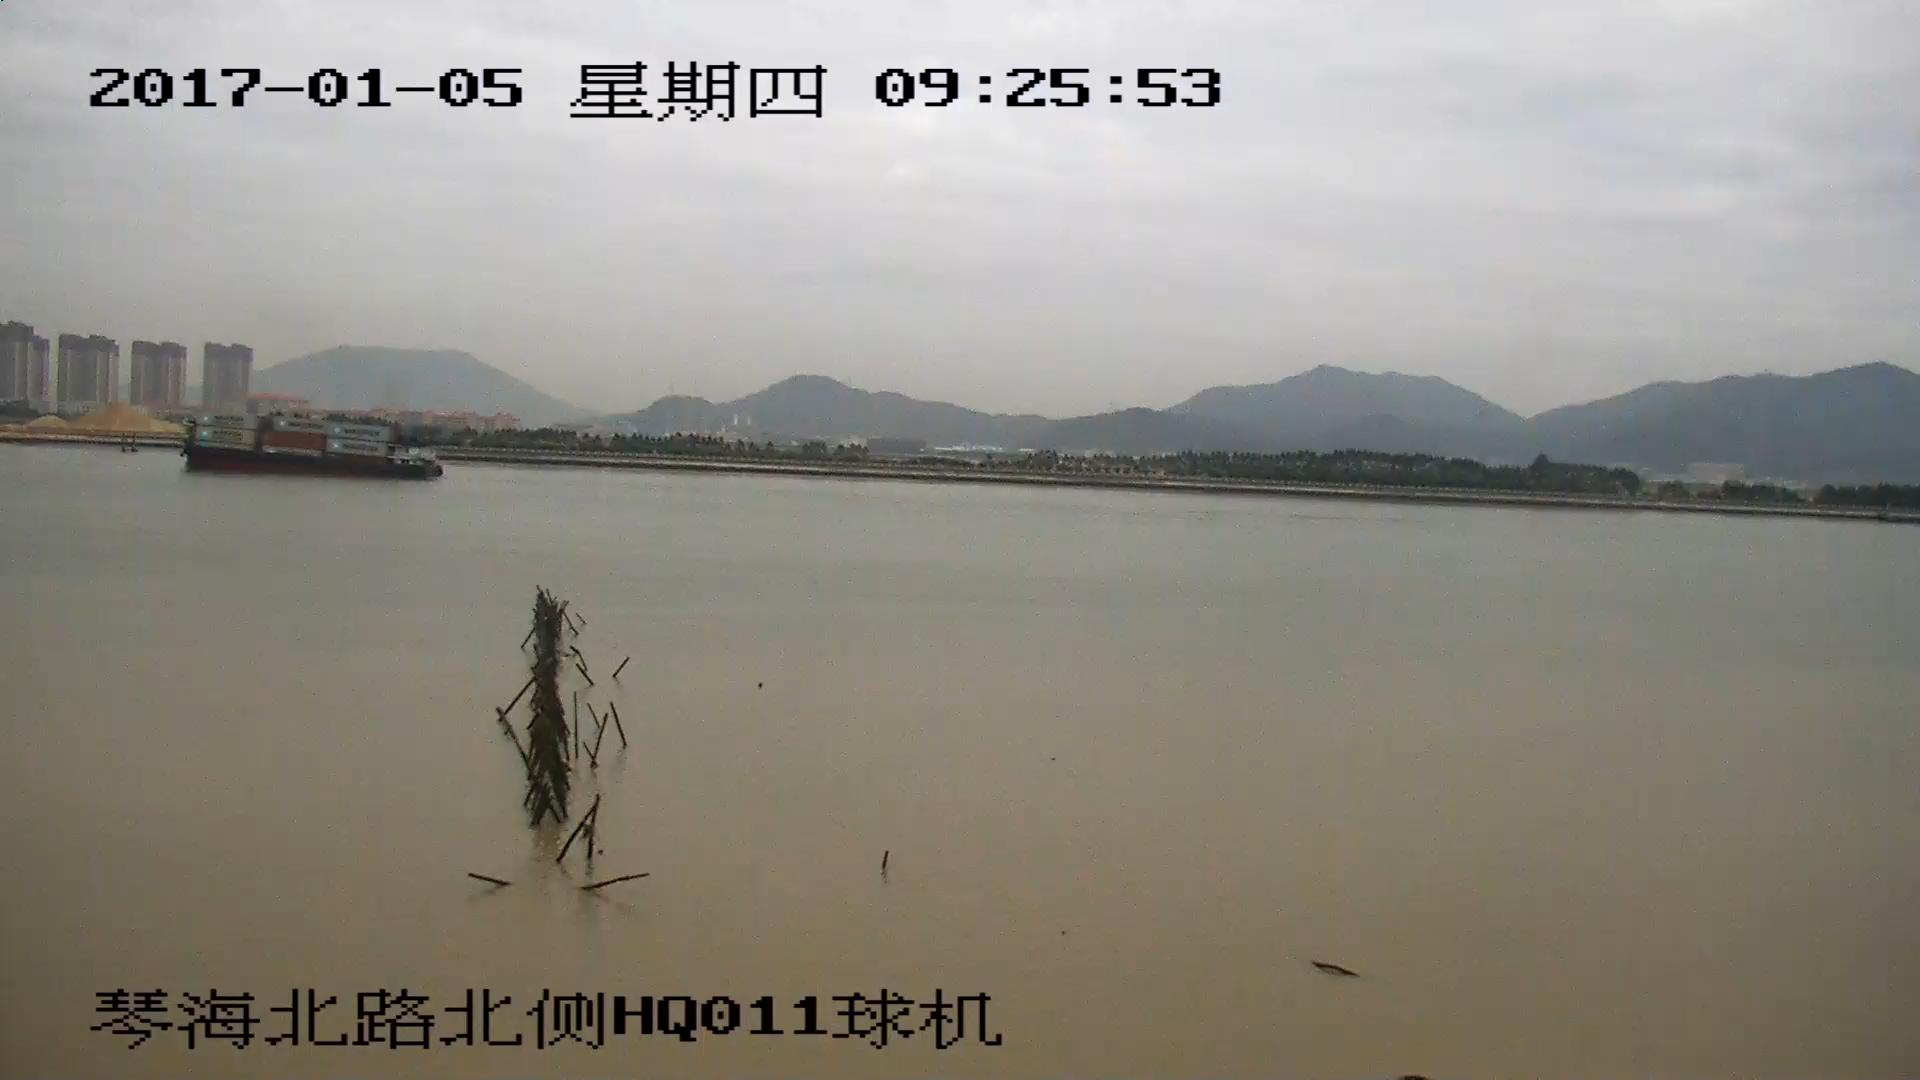container ship: (175, 416, 440, 481)
